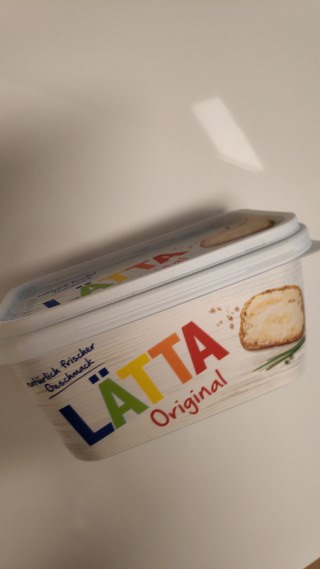laetta: (1, 206, 320, 462)
